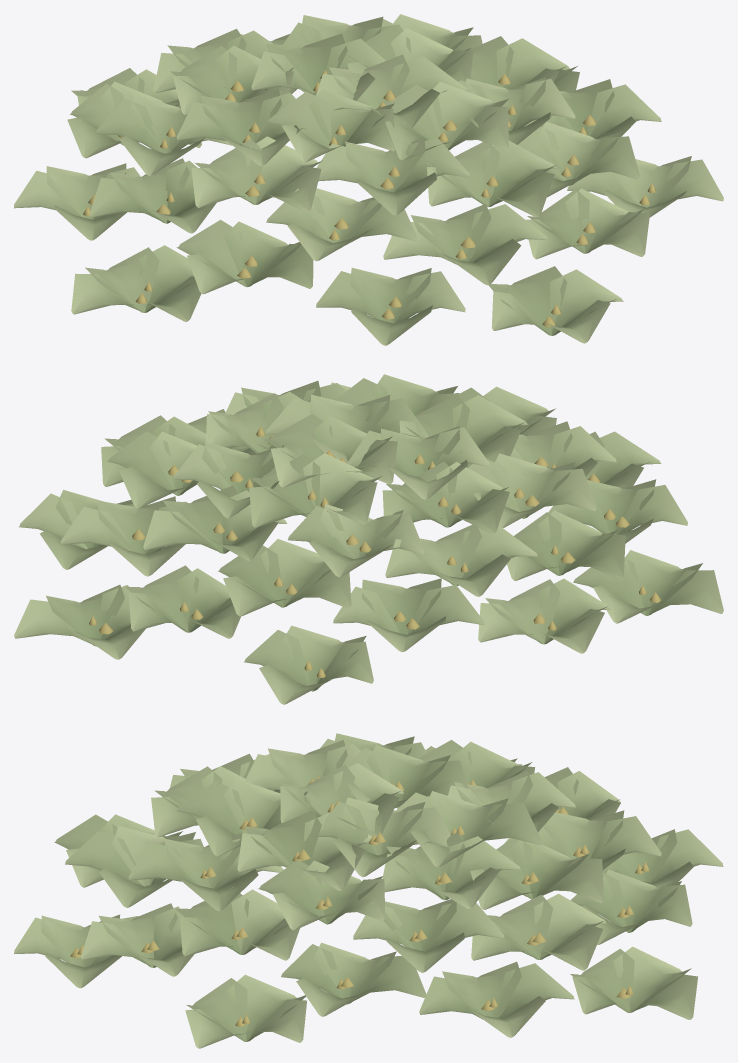
File: greenHydra.glb
3 renders of one model, top to bottom at view 1: azimuth 30°, elevation 25°; view 2: azimuth 150°, elevation 25°; view 3: azimuth 270°, elevation 25°, orthographic.
Parts seen in each view (by area): view 1: greenHydra.001; view 2: greenHydra.001; view 3: greenHydra.001.
Boxes of the visible parts, bbox=[...] form: greenHydra.001: bbox=[14, 14, 723, 345]; greenHydra.001: bbox=[14, 374, 723, 704]; greenHydra.001: bbox=[14, 733, 723, 1048].
Size of the model in its own units: 0.1037 by 0.0242 by 0.1073.
